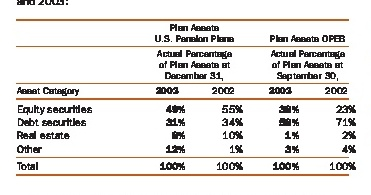table: (0, 0, 371, 195)
